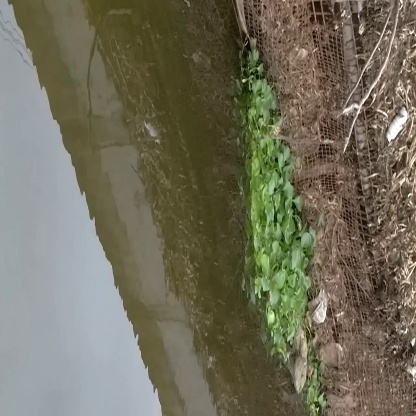grass: (248, 141, 312, 331)
